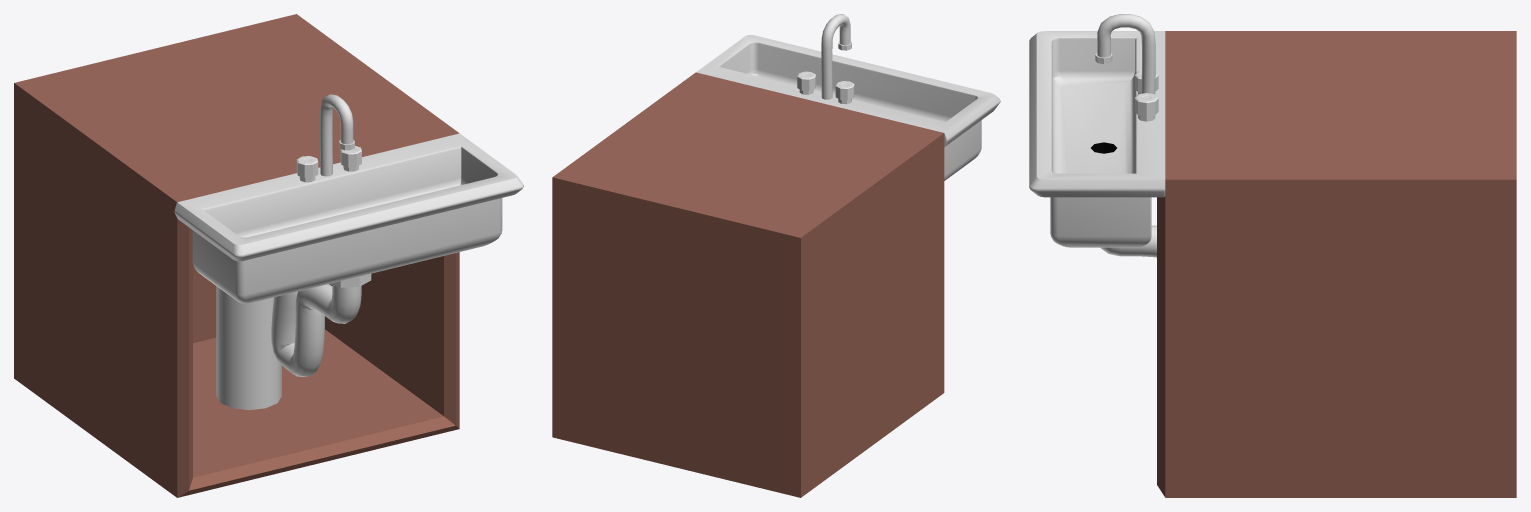
Rendered from shelf with washer.fbx.
3 views of the same model, side by side, from view 1: azimuth 30°, elevation 25°; view 2: azimuth 150°, elevation 25°; view 3: azimuth 270°, elevation 25° (orthographic). The views are drawn at different scales.
Visible parts, largest first — view 1: Cube.006, BezierCurve.001, BezierCurve; view 2: Cube.006; view 3: Cube.006, BezierCurve.
Part boxes in pixels (<box>): Cube.006: <box>14,14,523,497</box>; BezierCurve.001: <box>216,286,281,410</box>; BezierCurve: <box>271,284,361,376</box>; Cube.006: <box>552,14,1000,497</box>; Cube.006: <box>1029,14,1516,497</box>; BezierCurve: <box>1100,225,1156,257</box>.
Bounding box in the file's own units: 410 × 514 × 555.
